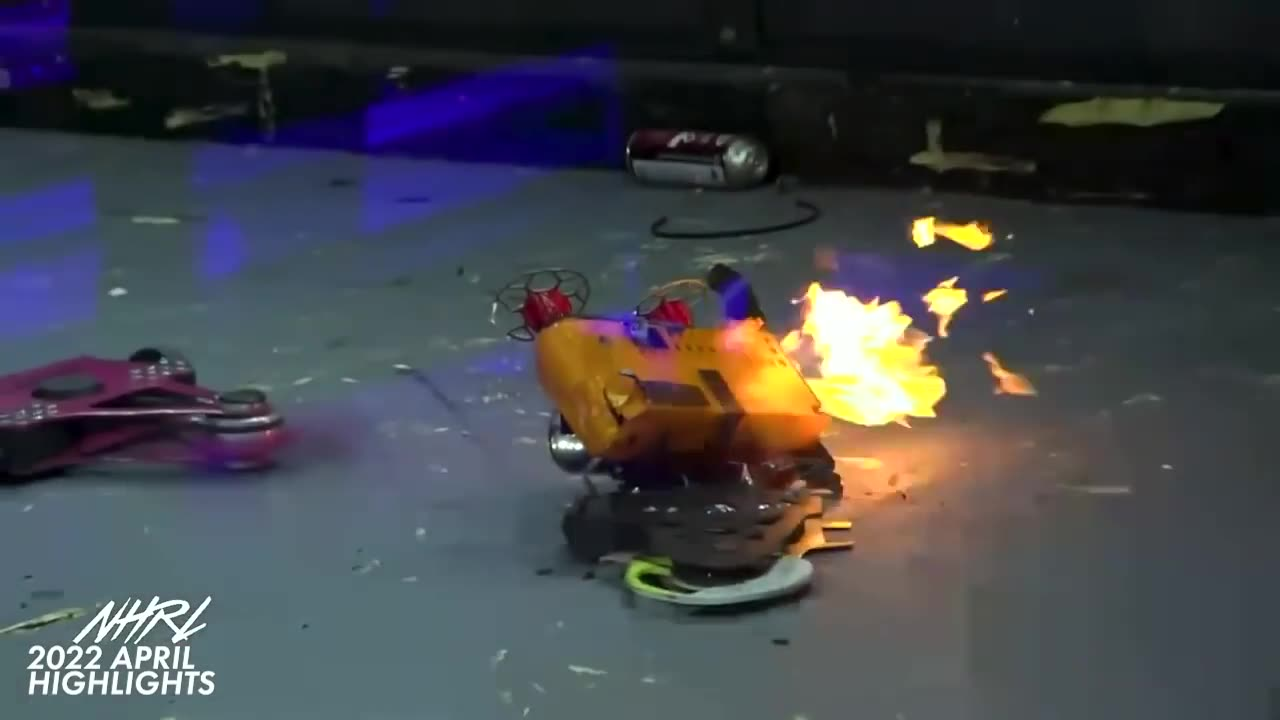belt: (649, 198, 824, 244)
combatbot: (489, 260, 837, 469), (0, 345, 290, 488), (561, 472, 863, 606)
debris: (626, 129, 775, 186)
